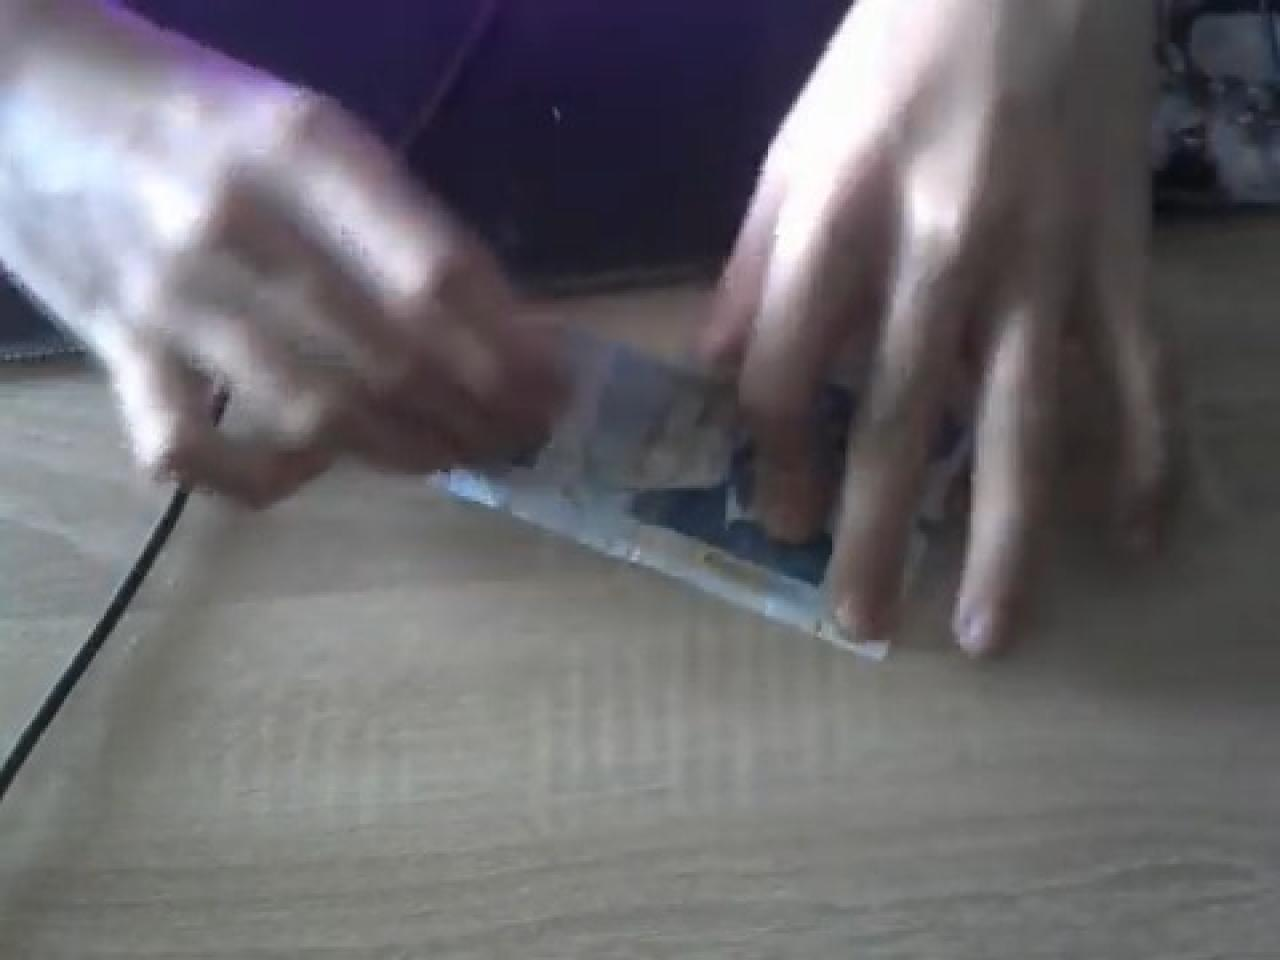20leva: (515, 347, 747, 501)
